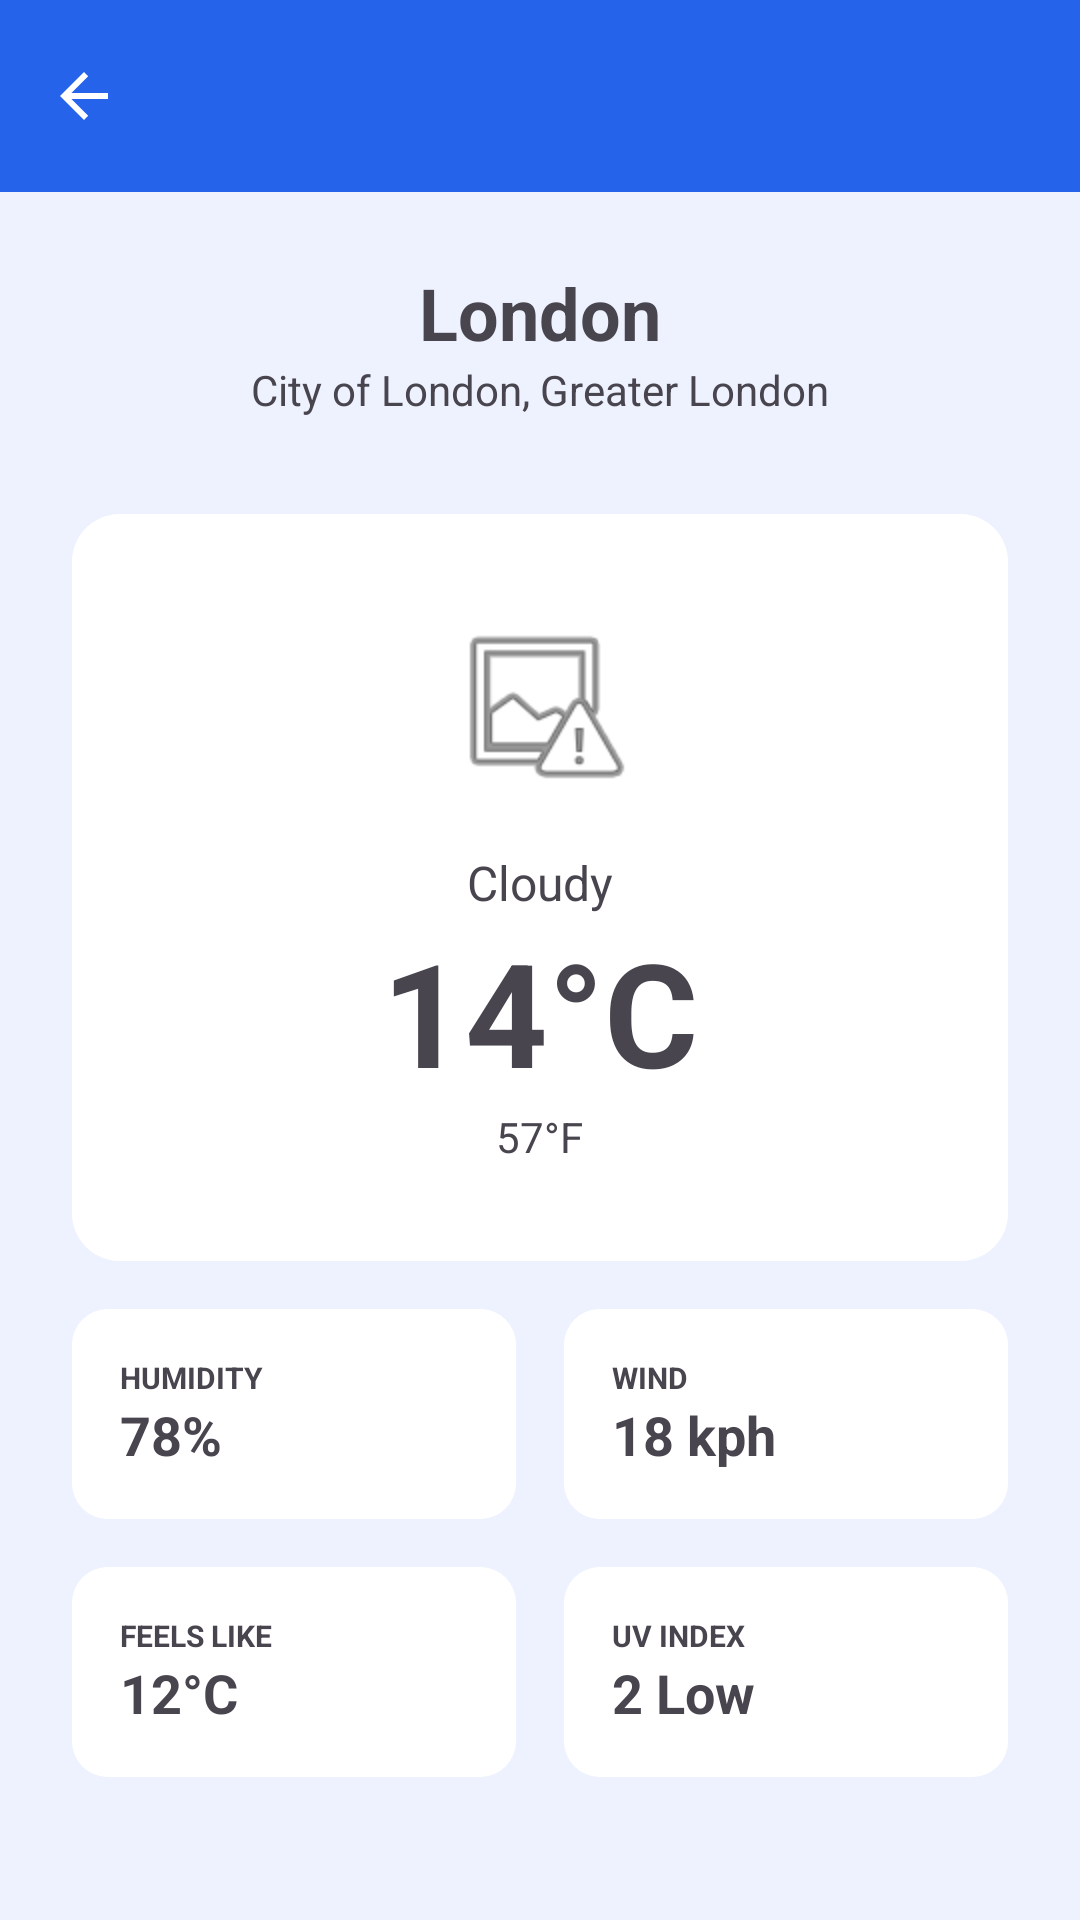

Screen size 1080 × 1920. Icon name, then its box in pixels as (x1, y1, x2, y2):
report: (470, 636, 624, 778)
